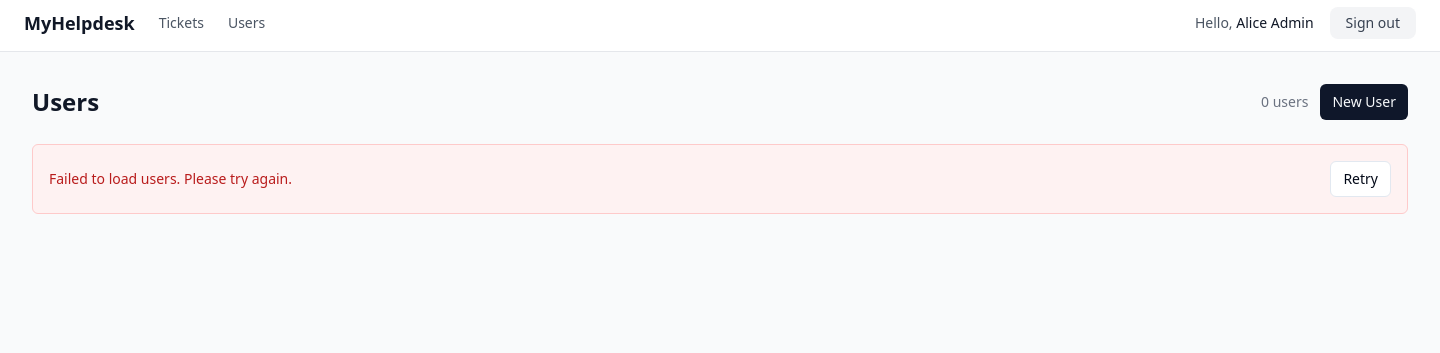
Test case: UsersPage › error state › retries the fetch when the Retry button is clicked
Click the button "Retry". click: {"x": 1361, "y": 179}
box: x1=1330 y1=161 x2=1391 y2=197
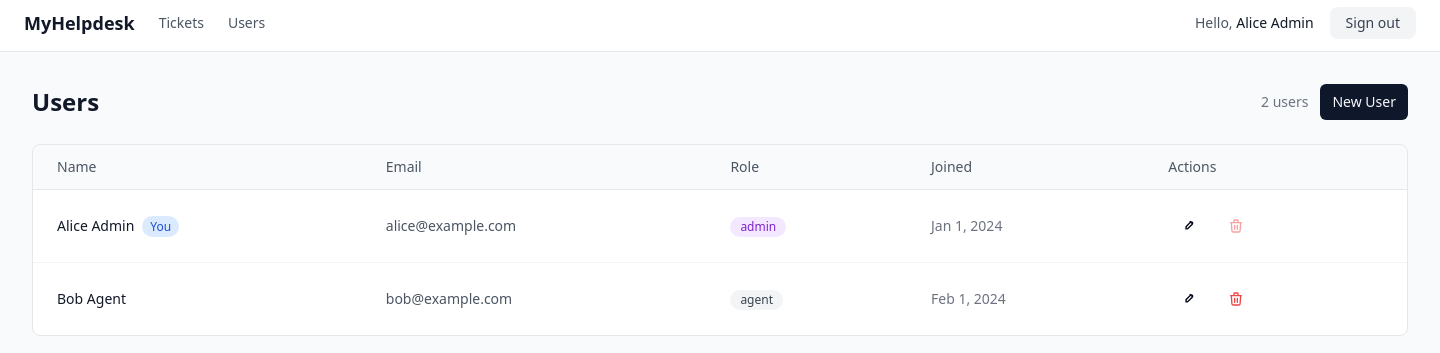
expect the text "Bob Agent" is shown: met, box x1=33 y1=262 x2=362 y2=335
